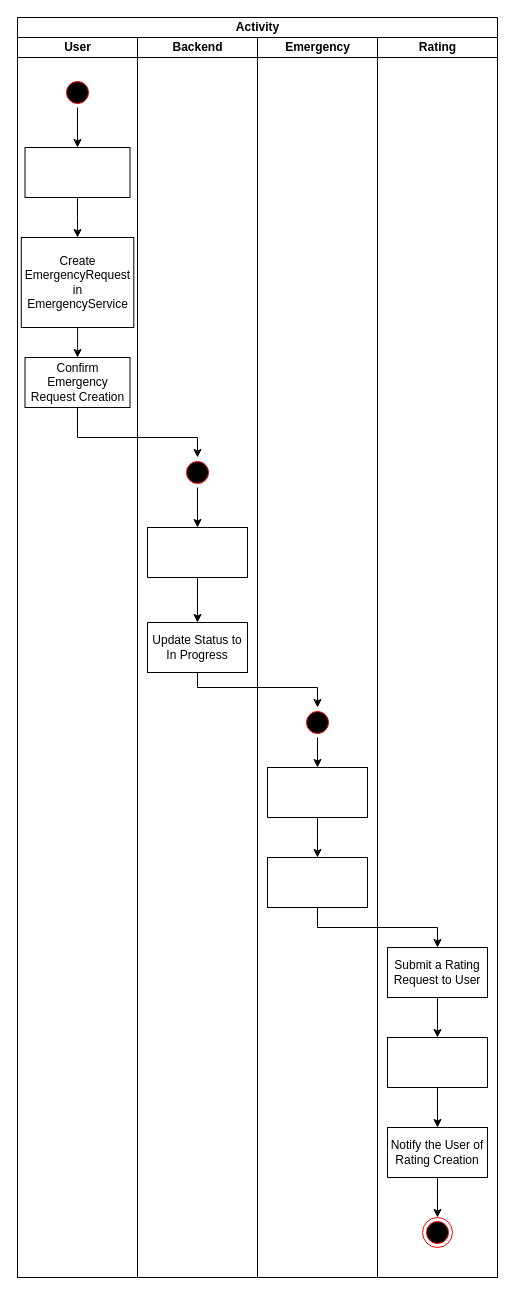
Image size: 515x1295. Some labels were removed from this diagram. Each missing label, with the centre of its shape:
"Create ServiceRating in RatingService" goes at pixel 437 1062.
"Notify Staff" goes at pixel 197 552.
"Resolve the Emergency" goes at pixel 317 792.
"Submit Emergency Request" goes at pixel 77 172.
"Update Status to Resolved" goes at pixel 317 882.
